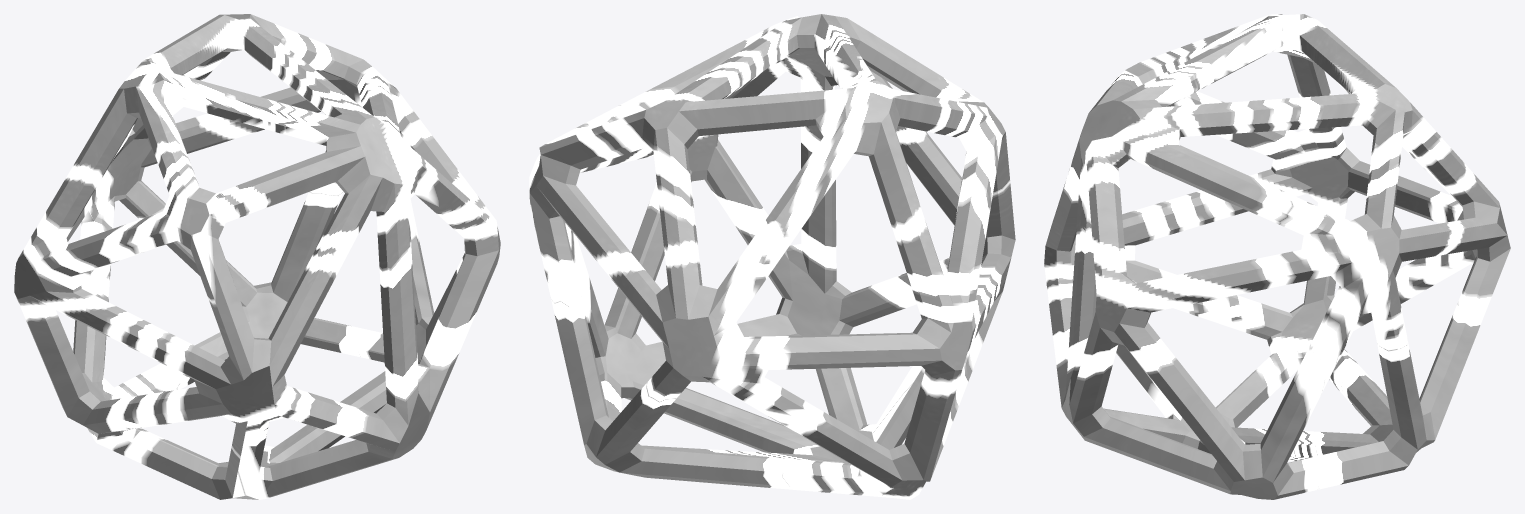
The model's file is cage.glb.
3 views of the same model, side by side, from view 1: azimuth 30°, elevation 25°; view 2: azimuth 150°, elevation 25°; view 3: azimuth 270°, elevation 25° (orthographic). The views are drawn at different scales.
Visible parts, largest first — view 1: Cube.001; view 2: Cube.001; view 3: Cube.001.
Boxes of the visible parts, x1,y1,x2,y2 form: Cube.001: (14, 14, 500, 499); Cube.001: (529, 14, 1015, 499); Cube.001: (1044, 14, 1510, 499).
Size of the model in its own units: 2.31 by 2.36 by 2.39.
Materials: 1 (1 with a texture image).
